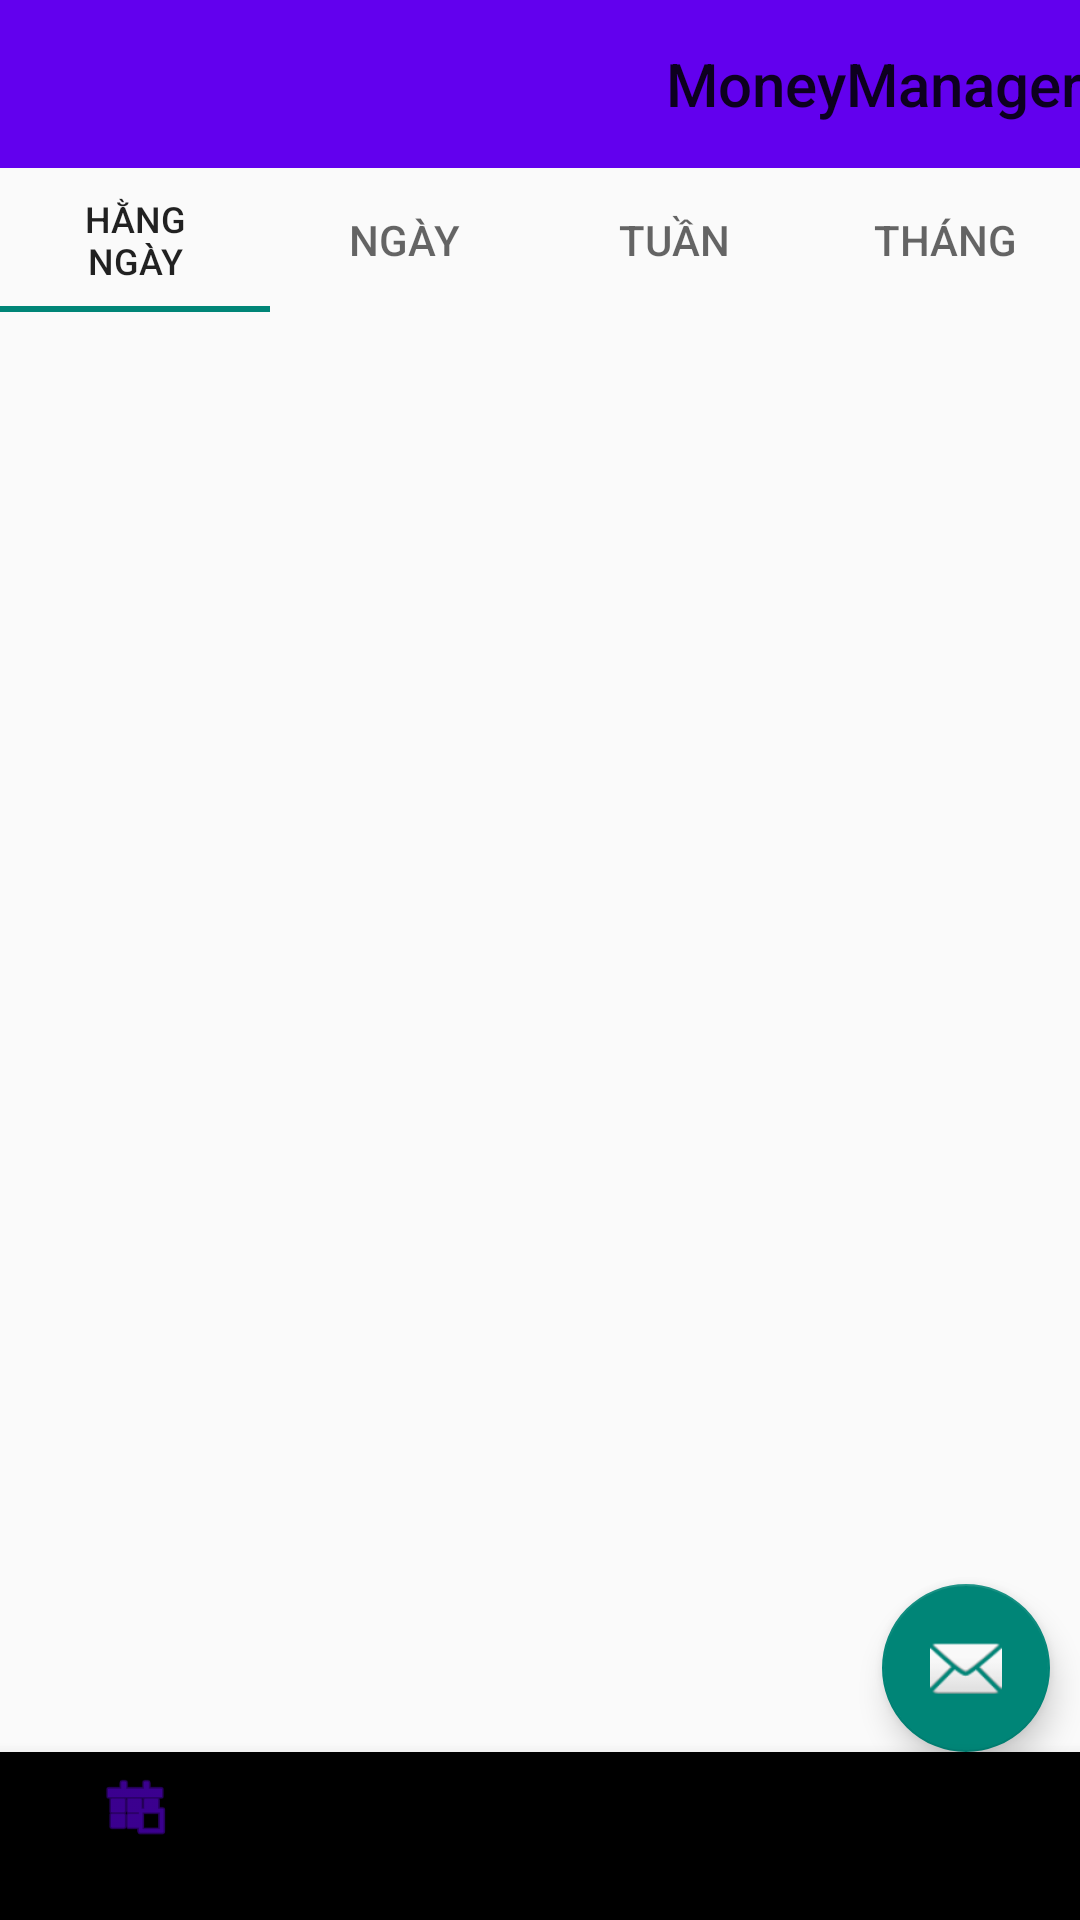

Point at icon controls on the screen. Image size 1080px×1920px, points as (x=x, y=y).
email: (x=966, y=1668)
